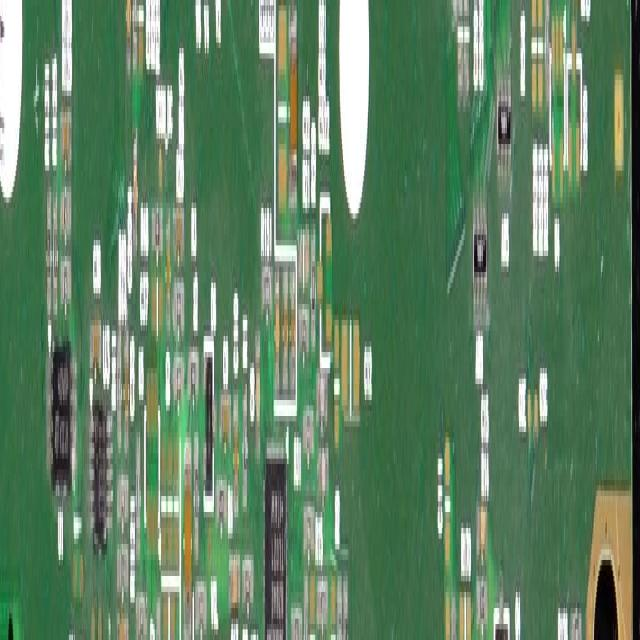IC: (263, 442, 287, 640)
capacitor: (342, 320, 360, 427), (278, 5, 287, 217), (289, 11, 297, 214), (184, 437, 192, 640), (132, 128, 138, 277), (298, 229, 309, 305), (233, 394, 239, 528), (476, 501, 488, 568), (274, 267, 280, 398), (165, 208, 171, 338), (220, 389, 232, 454), (60, 107, 71, 175), (445, 432, 450, 580), (173, 208, 185, 269), (90, 315, 102, 375), (228, 554, 240, 614), (457, 0, 463, 112), (464, 0, 469, 112), (126, 0, 131, 75), (331, 576, 336, 640), (310, 570, 314, 640)
resistor: (302, 474, 316, 574), (316, 432, 330, 518), (241, 379, 248, 539), (242, 544, 256, 624), (301, 395, 315, 471), (116, 539, 130, 615), (309, 208, 316, 359), (193, 416, 200, 567), (151, 192, 164, 272), (46, 165, 52, 338), (262, 251, 274, 337), (476, 560, 488, 640), (195, 581, 210, 640), (52, 176, 58, 321), (216, 470, 228, 542), (60, 166, 73, 232), (116, 464, 129, 529), (290, 570, 302, 640), (458, 581, 472, 640), (173, 261, 184, 335), (173, 341, 184, 413), (188, 336, 199, 406), (317, 570, 330, 628), (61, 246, 72, 312), (536, 0, 542, 117), (568, 592, 582, 640), (117, 331, 122, 441), (532, 0, 535, 139), (303, 581, 310, 640), (133, 0, 138, 80), (342, 576, 348, 640), (337, 581, 343, 640), (444, 597, 452, 640), (139, 0, 144, 64), (452, 586, 457, 640), (317, 618, 328, 640), (155, 597, 160, 640)
transistor: (494, 592, 508, 640)
